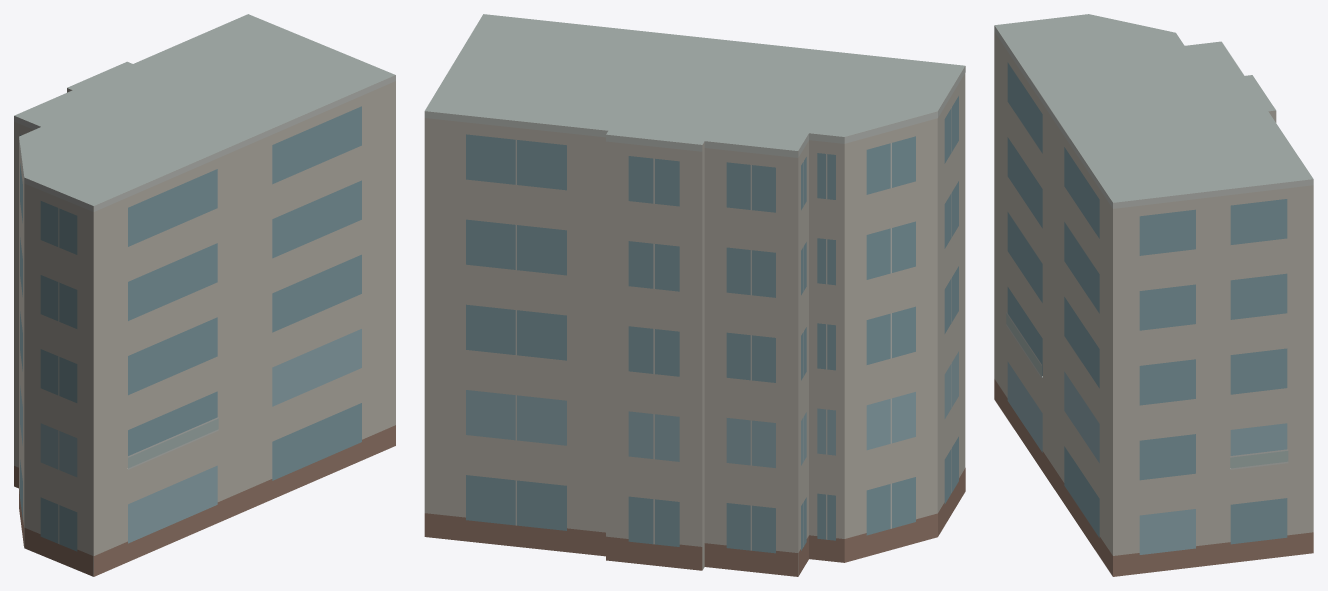
The model's file is survey-upis-32984336.glb.
The picture shows the model from 3 angles, left to right: view 1: azimuth 30°, elevation 25°; view 2: azimuth 150°, elevation 25°; view 3: azimuth 270°, elevation 25°; orthographic projection. The views are drawn at different scales.
Parts seen in each view (by area): view 1: survey-upis-32984336.tmp; view 2: survey-upis-32984336.tmp; view 3: survey-upis-32984336.tmp.
Boxes of the visible parts, x1,y1,x2,y2 form: survey-upis-32984336.tmp: (14,14,395,576); survey-upis-32984336.tmp: (424,14,965,576); survey-upis-32984336.tmp: (994,14,1313,576).
Size of the model in its own units: 16.36 by 15.1 by 11.7.
